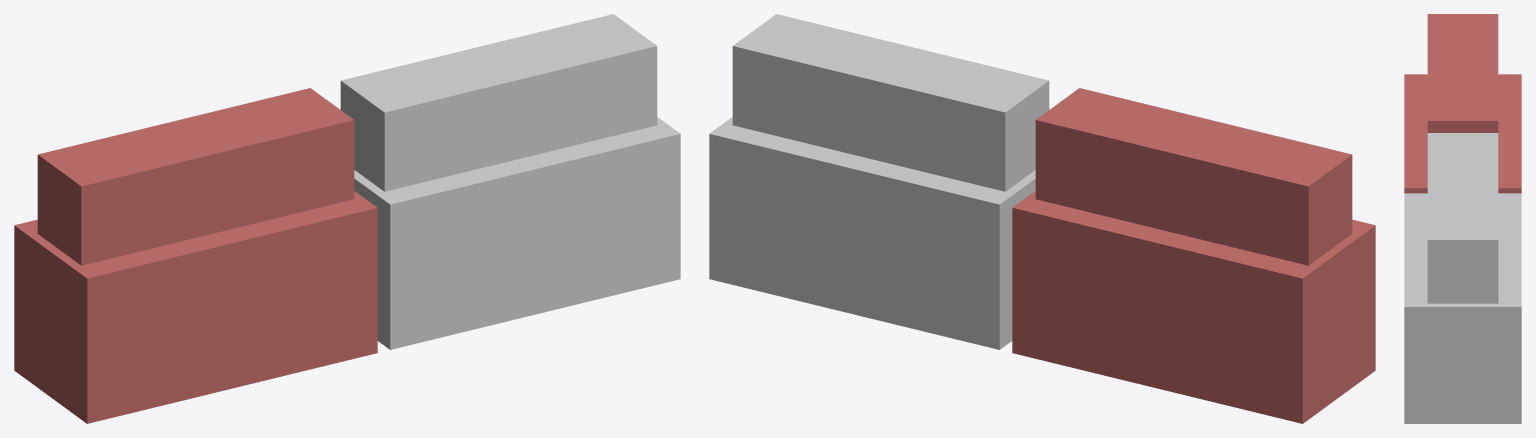
File: roadworks_barrier.glb
3 views of the same model, side by side, from view 1: azimuth 30°, elevation 25°; view 2: azimuth 150°, elevation 25°; view 3: azimuth 270°, elevation 25° (orthographic). The views are drawn at different scales.
Parts seen in each view (by area): view 1: roadworks_barrier; view 2: roadworks_barrier; view 3: roadworks_barrier.
Part boxes in pixels (bbox=[...]): roadworks_barrier: bbox=[14, 14, 680, 423]; roadworks_barrier: bbox=[709, 14, 1375, 423]; roadworks_barrier: bbox=[1404, 14, 1521, 423].
Size of the model in its own units: 2.35 by 0.85 by 0.5.
